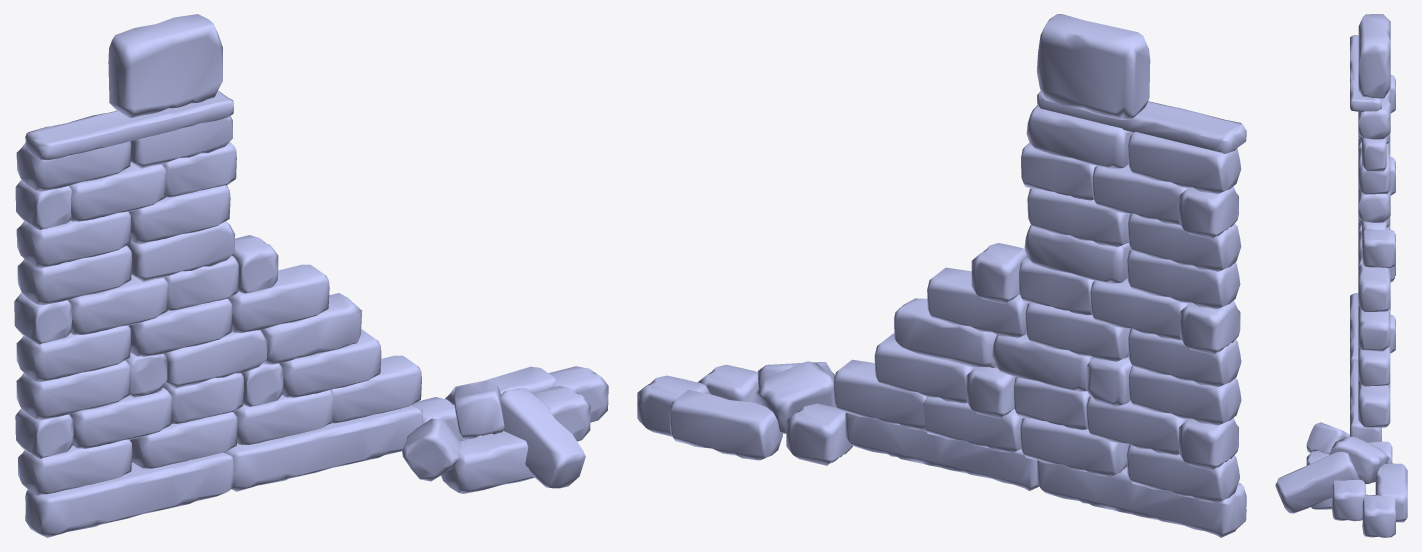
Rendered from SM_Brickwall_02.fbx.
3 views of the same model, side by side, from view 1: azimuth 30°, elevation 25°; view 2: azimuth 150°, elevation 25°; view 3: azimuth 270°, elevation 25° (orthographic). The views are drawn at different scales.
Parts seen in each view (by area): view 1: SM_Brickwall_02; view 2: SM_Brickwall_02; view 3: SM_Brickwall_02.
Part boxes in pixels (bbox=[...]): SM_Brickwall_02: bbox=[14, 14, 608, 537]; SM_Brickwall_02: bbox=[637, 14, 1246, 537]; SM_Brickwall_02: bbox=[1275, 14, 1407, 537].
Bounding box in the file's own units: 14.91 × 4.1 × 12.35.
